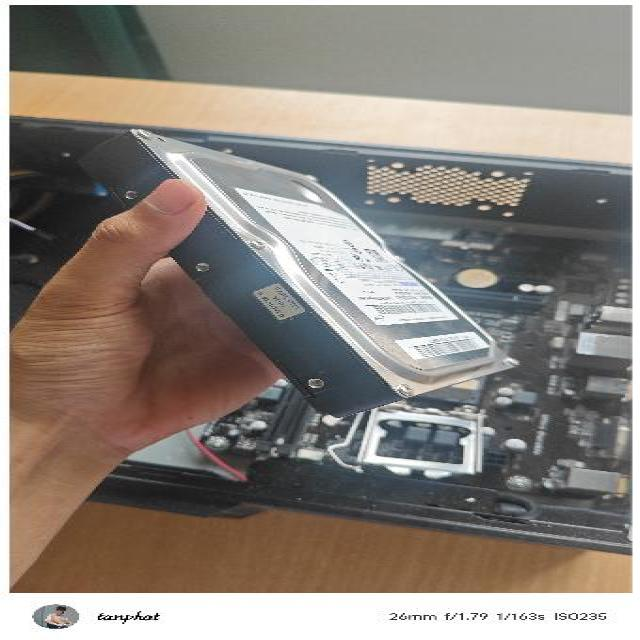DISK: (73, 119, 526, 420)
